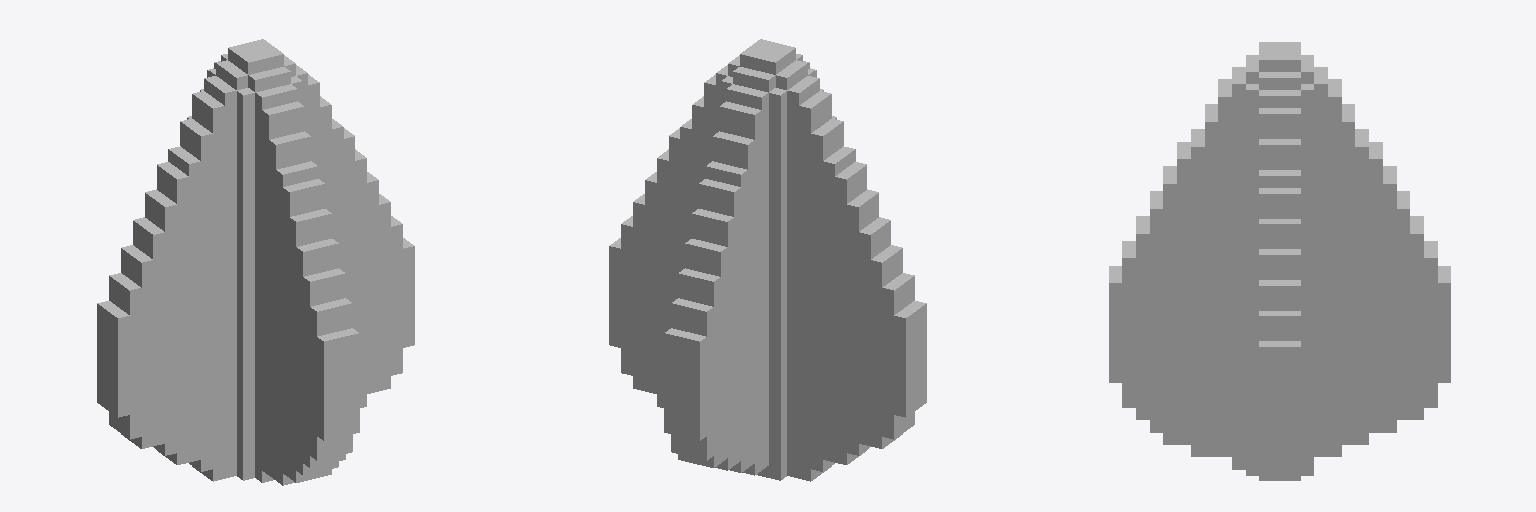
Rendered from chocolate.obj.
3 renders of one model, left to right at view 1: azimuth 30°, elevation 25°; view 2: azimuth 150°, elevation 25°; view 3: azimuth 270°, elevation 25°, orthographic.
Visible parts, largest first — view 1: object 1; view 2: object 1; view 3: object 1.
Part boxes in pixels (x1,y1,x2,y2): object 1: (97, 39, 414, 485); object 1: (609, 39, 926, 481); object 1: (1109, 42, 1450, 480).
Bounding box in the file's own units: 2.5 × 3.3 × 2.5.